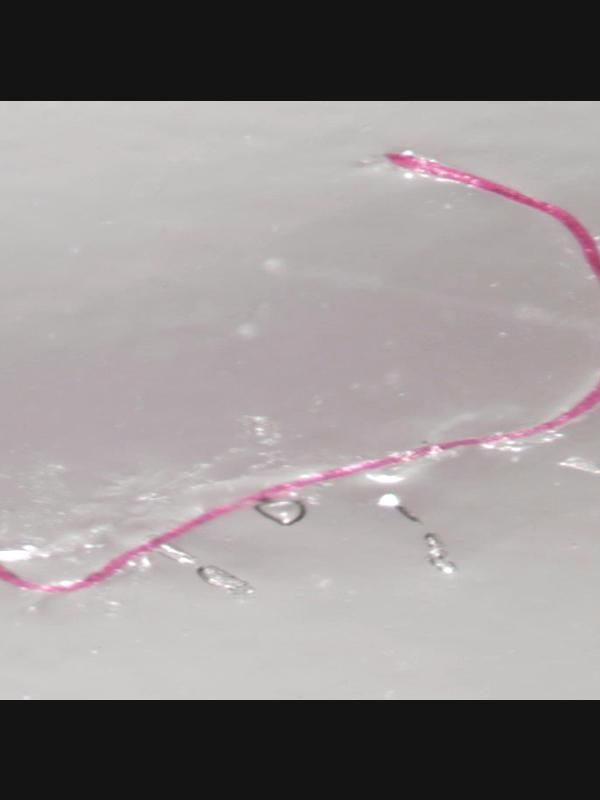microplastic: (0, 148, 600, 596)
